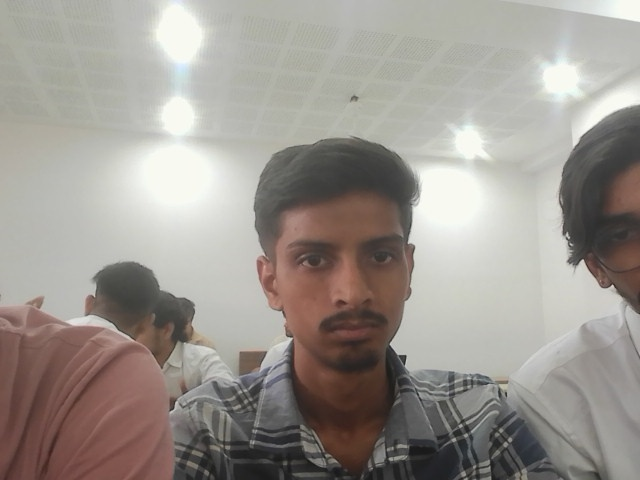light_on: (441, 114, 496, 165), (540, 200, 573, 273), (151, 87, 203, 133), (542, 66, 570, 94), (615, 5, 636, 25)
person: (504, 104, 639, 479), (0, 299, 176, 479), (140, 291, 237, 402)
